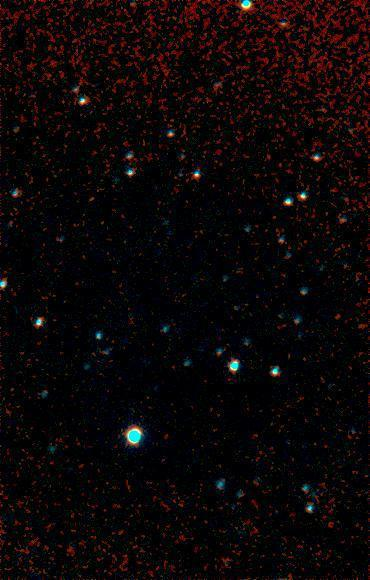star: (77, 185, 107, 215)
